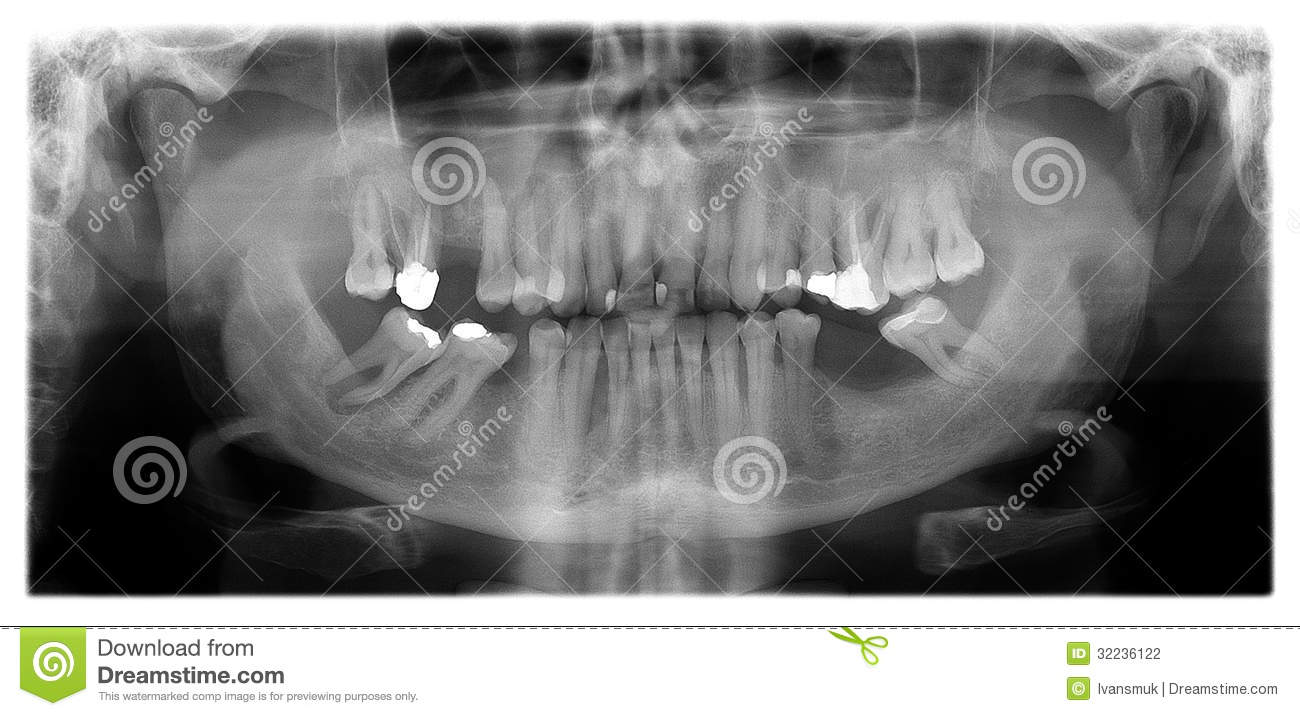canine: (540, 169, 593, 318), (722, 166, 772, 311), (559, 310, 602, 469), (699, 302, 742, 448)
incisor: (578, 163, 628, 315), (654, 161, 701, 313), (693, 165, 738, 309), (614, 168, 658, 315), (595, 315, 639, 457), (673, 308, 710, 452), (648, 311, 683, 450), (623, 303, 657, 444)
molar: (387, 316, 521, 449), (872, 292, 1015, 391), (319, 305, 445, 416), (920, 166, 995, 288), (390, 168, 452, 314), (336, 171, 402, 307), (821, 178, 887, 312), (875, 175, 940, 300)
premolar: (506, 174, 570, 318), (469, 173, 528, 319), (731, 303, 787, 456), (773, 303, 824, 448), (523, 314, 575, 456), (756, 168, 806, 306), (791, 175, 839, 307)
